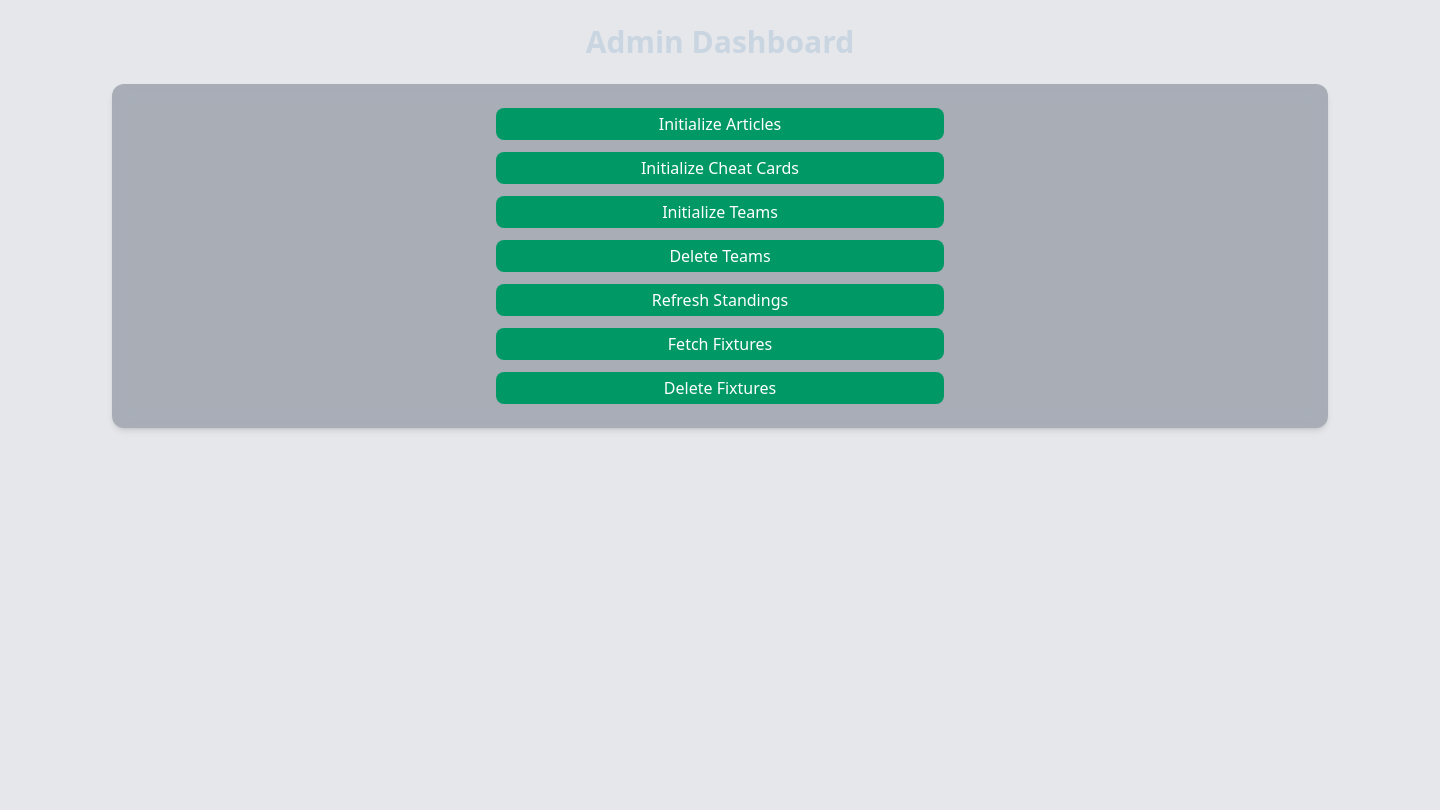
Test: AdminPage › confirmation gate › explains what the action will do
Click the button "Delete Teams". click: click(720, 256)
box: [496, 240, 944, 272]
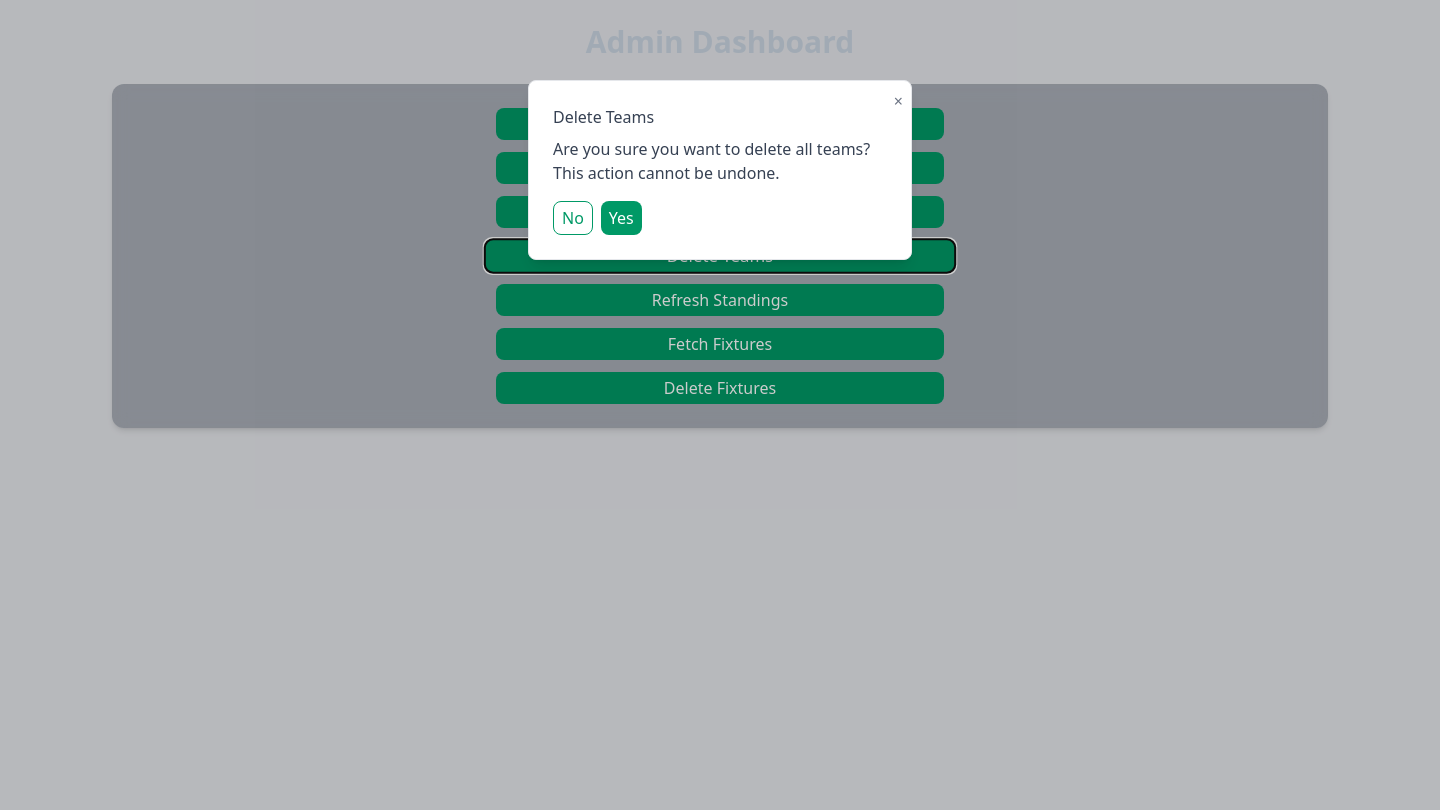
Check: the text "delete all teams? This action cannot be undone" is shown, box [553, 138, 870, 184]
